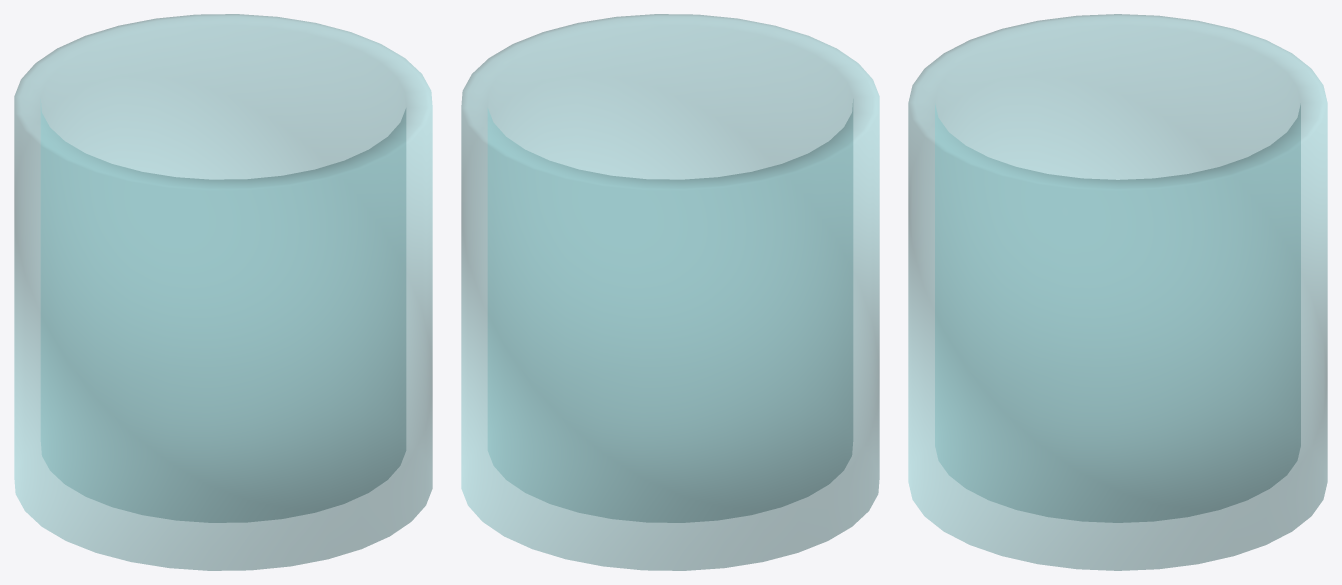
File: GlassCup.fbx
3 views of the same model, side by side, from view 1: azimuth 30°, elevation 25°; view 2: azimuth 150°, elevation 25°; view 3: azimuth 270°, elevation 25° (orthographic).
Visible parts, largest first — view 1: GlassCup; view 2: GlassCup; view 3: GlassCup.
Boxes of the visible parts, <box> form: GlassCup: <box>14,14,432,570</box>; GlassCup: <box>461,14,879,570</box>; GlassCup: <box>908,14,1327,570</box>.
Bounding box in the file's own units: 162 × 162 × 162.
